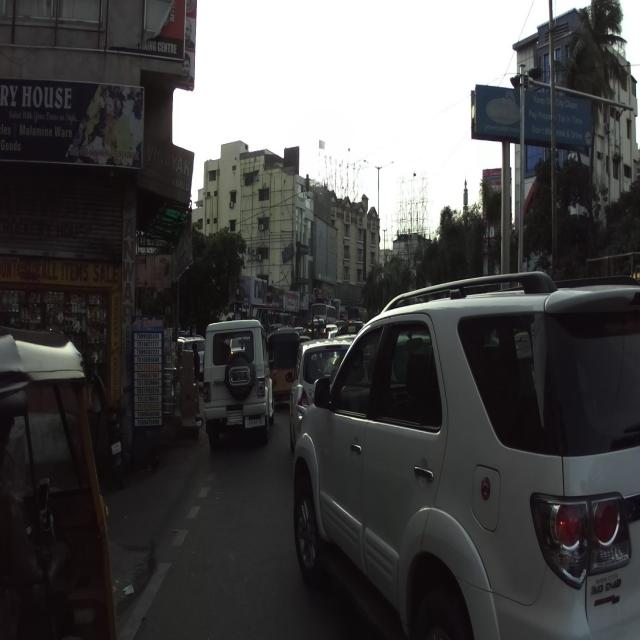car: (292, 268, 639, 639), (202, 318, 274, 454)
